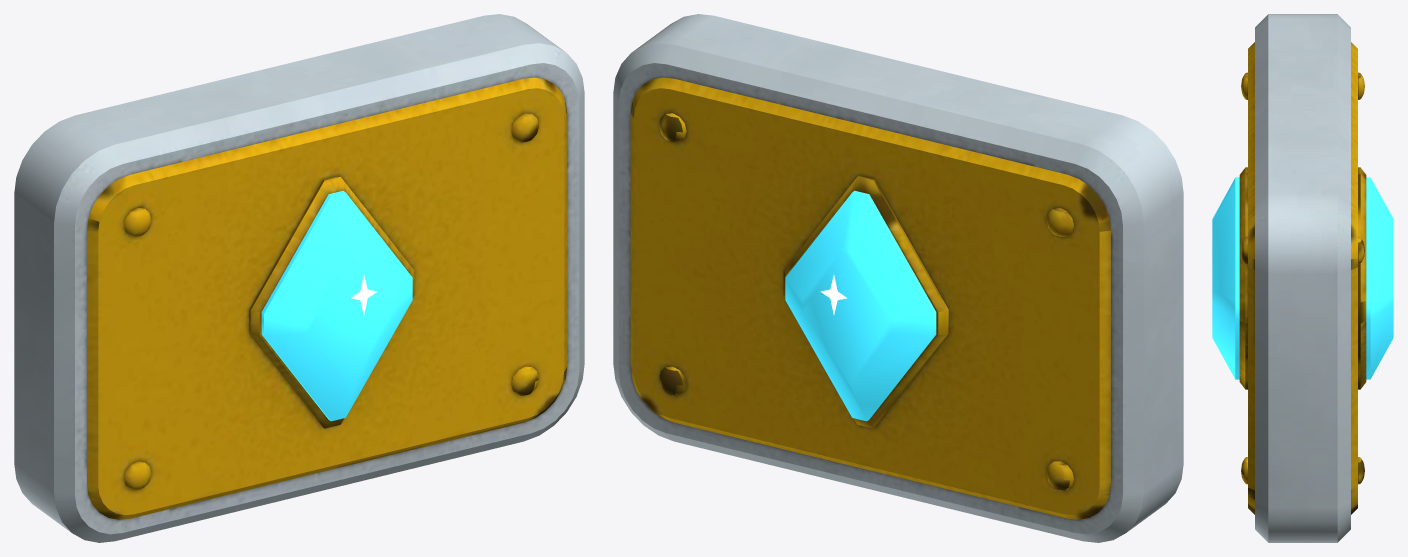
The picture shows the model from 3 angles, left to right: view 1: azimuth 30°, elevation 25°; view 2: azimuth 150°, elevation 25°; view 3: azimuth 270°, elevation 25°; orthographic projection. The views are drawn at different scales.
Visible parts, largest first — view 1: Prize_Glossy_Gold, Prize_Brushed_Silver, glow_Prize_Diamond_Blue; view 2: Prize_Glossy_Gold, Prize_Brushed_Silver, glow_Prize_Diamond_Blue; view 3: Prize_Brushed_Silver, Prize_Glossy_Gold, glow_Prize_Diamond_Blue.
Boxes of the visible parts, bbox=[...] form: Prize_Glossy_Gold: bbox=[87, 77, 567, 519]; Prize_Brushed_Silver: bbox=[14, 14, 584, 542]; glow_Prize_Diamond_Blue: bbox=[261, 190, 412, 421]; Prize_Glossy_Gold: bbox=[630, 77, 1110, 519]; Prize_Brushed_Silver: bbox=[613, 14, 1183, 542]; glow_Prize_Diamond_Blue: bbox=[785, 190, 936, 421]; Prize_Brushed_Silver: bbox=[1255, 14, 1350, 542]; Prize_Glossy_Gold: bbox=[1239, 42, 1366, 514]; glow_Prize_Diamond_Blue: bbox=[1212, 177, 1393, 379].
Bounding box in the file's own units: 1 × 0.7143 × 0.3414.
4 materials, 2 textured.
